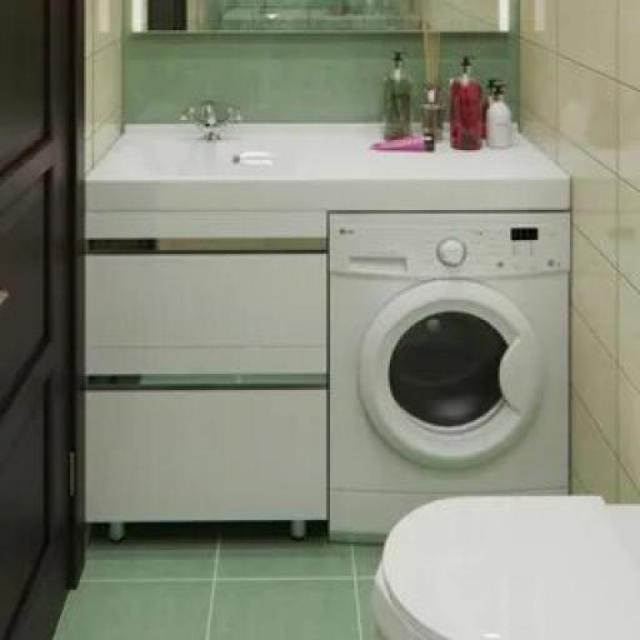Washing-Machine: (332, 210, 564, 548)
